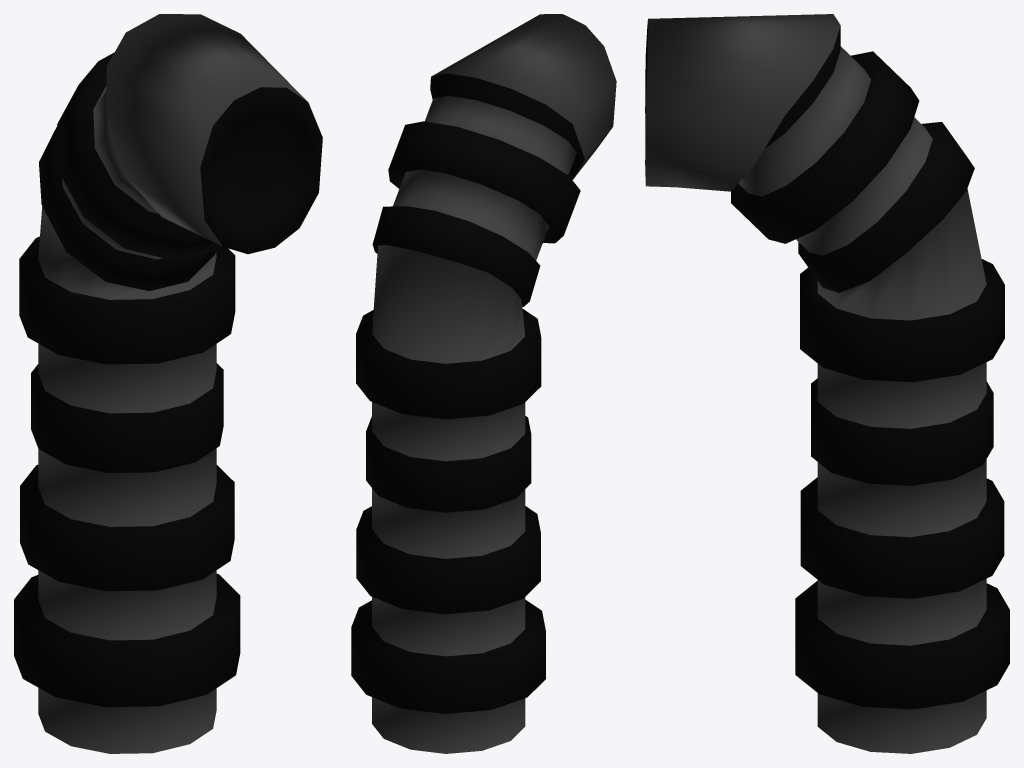
Rendered from pipe.fbx.
The picture shows the model from 3 angles, left to right: view 1: azimuth 30°, elevation 25°; view 2: azimuth 150°, elevation 25°; view 3: azimuth 270°, elevation 25°; orthographic projection. The views are drawn at different scales.
Parts seen in each view (by area): view 1: Cylinder; view 2: Cylinder; view 3: Cylinder.
Part boxes in pixels (x1=…): Cylinder: x1=14, y1=14, x2=322, y2=753; Cylinder: x1=351, y1=14, x2=616, y2=753; Cylinder: x1=645, y1=14, x2=1009, y2=753.
Bounding box in the file's own units: 51.49 × 182 × 86.85.
